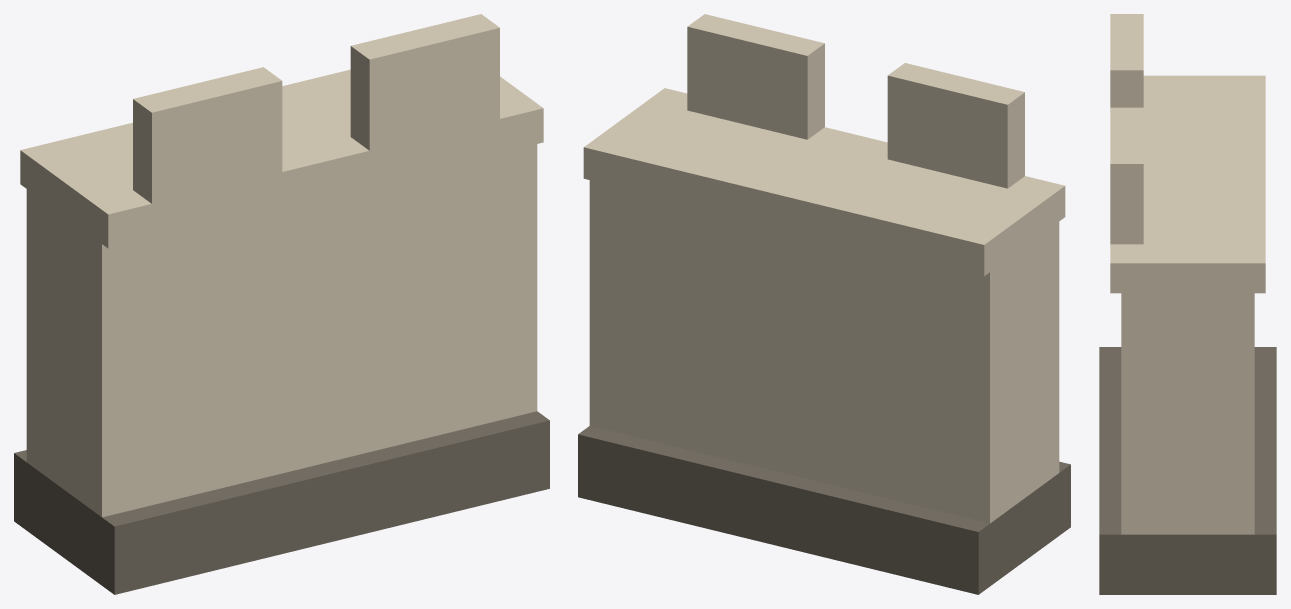
Rendered from wall_straight.glb.
The picture shows the model from 3 angles, left to right: view 1: azimuth 30°, elevation 25°; view 2: azimuth 150°, elevation 25°; view 3: azimuth 270°, elevation 25°; orthographic projection. The views are drawn at different scales.
Parts seen in each view (by area): view 1: wall_straight; view 2: wall_straight; view 3: wall_straight.
Part boxes in pixels (left/top/right/bottom): wall_straight: left=14, top=14, right=549, bottom=594; wall_straight: left=578, top=14, right=1070, bottom=594; wall_straight: left=1099, top=14, right=1276, bottom=594.
Bounding box in the file's own units: 2 × 2.05 × 0.7999.
